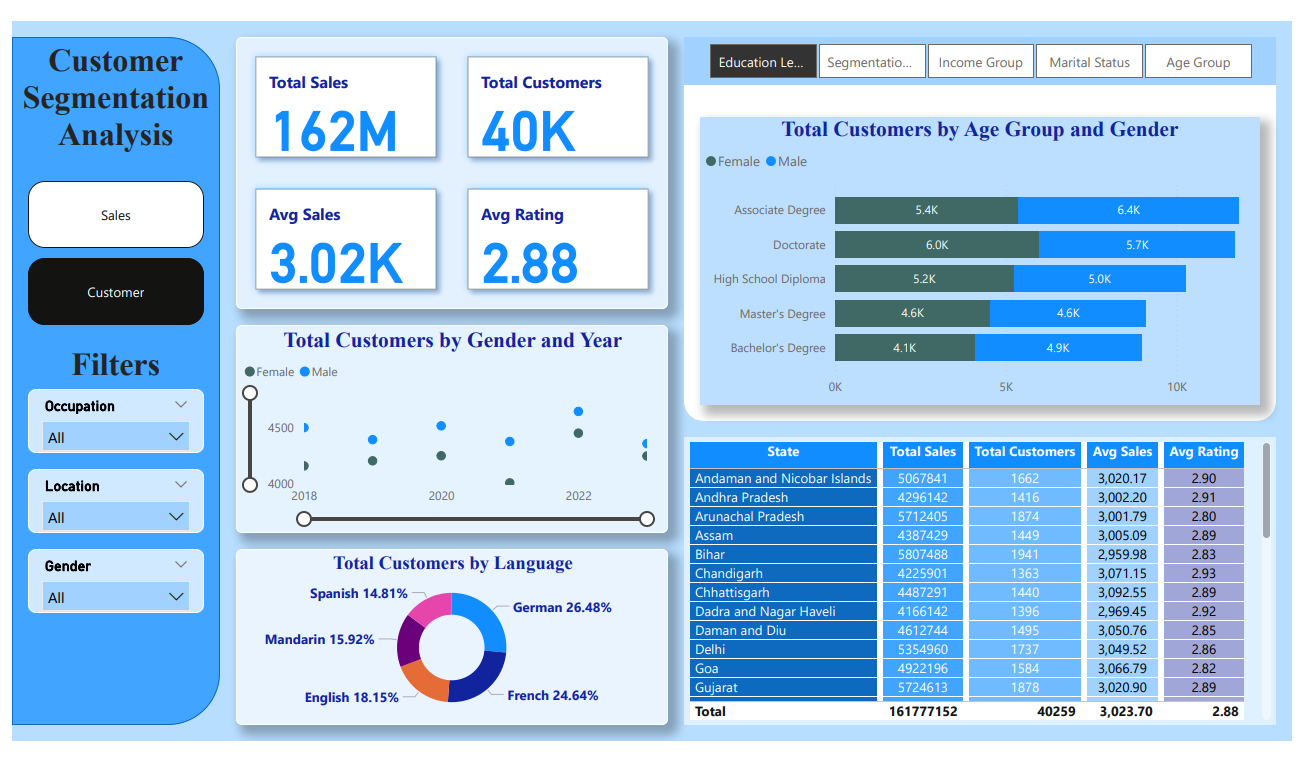

The dashboard page shown, as its layout file describes it:
{"tool":"powerbi","page":{"name":"Customer","canvas":[1280,720],"ordinal":1},"visuals":[{"type":"shape","box":[0,16,208,688],"z":0},{"type":"cardVisual","fields":{"Data":["All Measure.Total Sales","All Measure.Total Customers","All Measure.Avg Sales","All Measure.Avg Rating"]},"box":[224,16,432,272],"z":1000},{"type":"scatterChart","fields":{"Series":["CustomerData.Gender"],"X":["Date Table.Date.Variation.Date Hierarchy.Year","Date Table.Date.Variation.Date Hierarchy.Quarter","Date Table.Date.Variation.Date Hierarchy.Month","Date Table.Date.Variation.Date Hierarchy.Day"],"Y":["All Measure.Total Customers"]},"box":[224,304,432,208],"z":2000},{"type":"donutChart","title":"Total Customers by Language","fields":{"Category":["CustomerData.Preferred Language"],"Y":["All Measure.Total Customers"]},"box":[224,528,432,176],"z":3000},{"type":"shape","box":[672,16,592,384],"z":4000},{"type":"slicer","fields":{"Values":["Metrics.Metrics"]},"box":[672,16,592,48],"z":5000},{"type":"barChart","title":"Total Customers by Age Group and Gender","fields":{"Category":["CustomerData.Education Level"],"Series":["CustomerData.Gender"],"Y":["All Measure.Total Customers"]},"box":[688,96,560,288],"z":6000},{"type":"tableEx","fields":{"Values":["CustomerData.Geographic Information","Sum(CustomerData.Sales)","All Measure.Total Customers","All Measure.Avg Sales","All Measure.Avg Rating"]},"box":[672,416,592,288],"z":7000},{"type":"textbox","box":[0,16,208,128],"z":8000},{"type":"textbox","box":[32,320,144,80],"z":9000},{"type":"slicer","fields":{"Values":["CustomerData.Occupation"]},"box":[16,368,176,64],"z":10000},{"type":"slicer","fields":{"Values":["CustomerData.Geographic Information"]},"box":[16,448,176,64],"z":11000},{"type":"slicer","fields":{"Values":["CustomerData.Gender"]},"box":[16,528,176,64],"z":12000},{"type":"pageNavigator","box":[16,160,176,144],"z":13000}]}

Visuals, with their boxes on the page's 1280x720 design canvas (x1, y1, x2, y2). These are canvas units, not pixel positions in the 1303x757 screenshot, which may show the page scaled, cropped or inside an application window:
shape: rect(0, 16, 208, 704)
cardVisual - All Measure.Total Sales x All Measure.Total Customers: rect(224, 16, 656, 288)
scatterChart - CustomerData.Gender x Date Table.Date.Variation.Date Hierarchy.Year: rect(224, 304, 656, 512)
"Total Customers by Language" donutChart: rect(224, 528, 656, 704)
shape: rect(672, 16, 1264, 400)
slicer - Metrics.Metrics: rect(672, 16, 1264, 64)
"Total Customers by Age Group and Gender" barChart: rect(688, 96, 1248, 384)
tableEx - CustomerData.Geographic Information x Sum(CustomerData.Sales): rect(672, 416, 1264, 704)
textbox: rect(0, 16, 208, 144)
textbox: rect(32, 320, 176, 400)
slicer - CustomerData.Occupation: rect(16, 368, 192, 432)
slicer - CustomerData.Geographic Information: rect(16, 448, 192, 512)
slicer - CustomerData.Gender: rect(16, 528, 192, 592)
pageNavigator: rect(16, 160, 192, 304)
